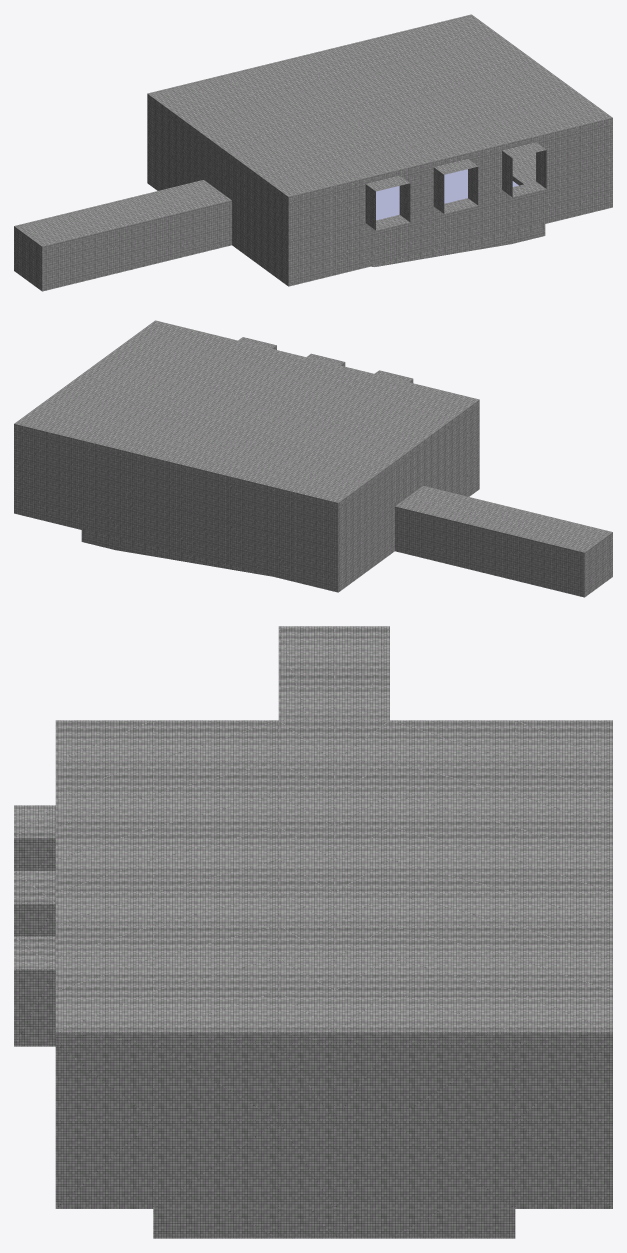
File: Example1.glb
3 renders of one model, top to bottom at view 1: azimuth 30°, elevation 25°; view 2: azimuth 150°, elevation 25°; view 3: azimuth 270°, elevation 25°, orthographic. The views are drawn at different scales.
Visible parts, largest first — view 1: Structure, Water; view 2: Structure; view 3: Structure.
Boxes of the visible parts, bbox=[...] form: Structure: bbox=[14, 14, 612, 291]; Water: bbox=[376, 169, 518, 220]; Structure: bbox=[14, 320, 612, 597]; Structure: bbox=[14, 626, 612, 1238].
Bounding box in the file's own units: 84 × 19.62 × 43.
Materials: 2 (1 with a texture image).
